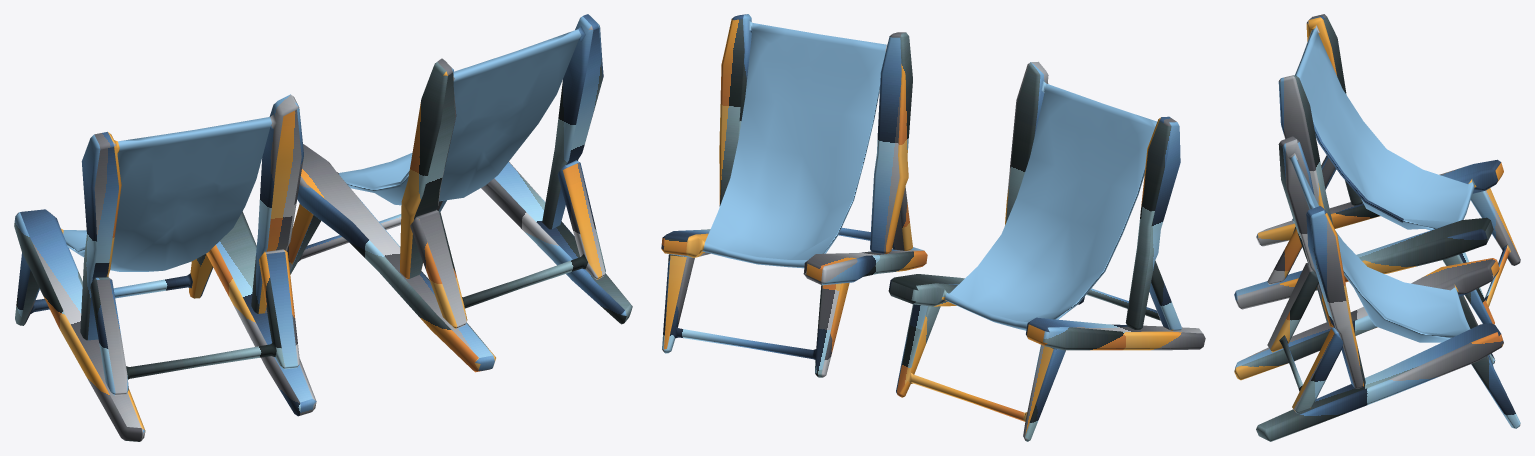
The model's file is Prop_BeachChairCloth.glb.
3 views of the same model, side by side, from view 1: azimuth 30°, elevation 25°; view 2: azimuth 150°, elevation 25°; view 3: azimuth 270°, elevation 25° (orthographic). The views are drawn at different scales.
Parts seen in each view (by area): view 1: Prop_BeachChairCloth; view 2: Prop_BeachChairCloth; view 3: Prop_BeachChairCloth.
Boxes of the visible parts, x1,y1,x2,y2 form: Prop_BeachChairCloth: (14, 14, 632, 441); Prop_BeachChairCloth: (661, 14, 1205, 441); Prop_BeachChairCloth: (1234, 14, 1520, 441).
Bounding box in the file's own units: 1.39 × 0.767 × 0.8194.
1 material, 1 textured.
